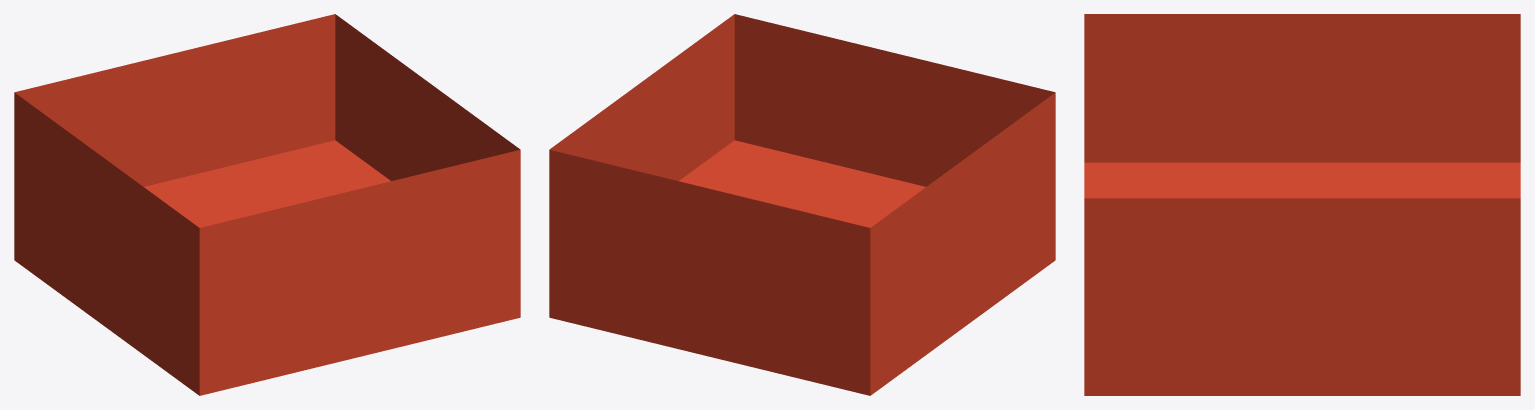
3 renders of one model, left to right at view 1: azimuth 30°, elevation 25°; view 2: azimuth 150°, elevation 25°; view 3: azimuth 270°, elevation 25°, orthographic. The views are drawn at different scales.
Parts seen in each view (by area): view 1: Cube; view 2: Cube; view 3: Cube.
Part boxes in pixels (box(x1,y1,x2,y2)): Cube: box(14, 14, 520, 395); Cube: box(549, 14, 1055, 395); Cube: box(1084, 14, 1520, 395).
Size of the model in its own units: 0.4 by 0.4 by 0.2.
